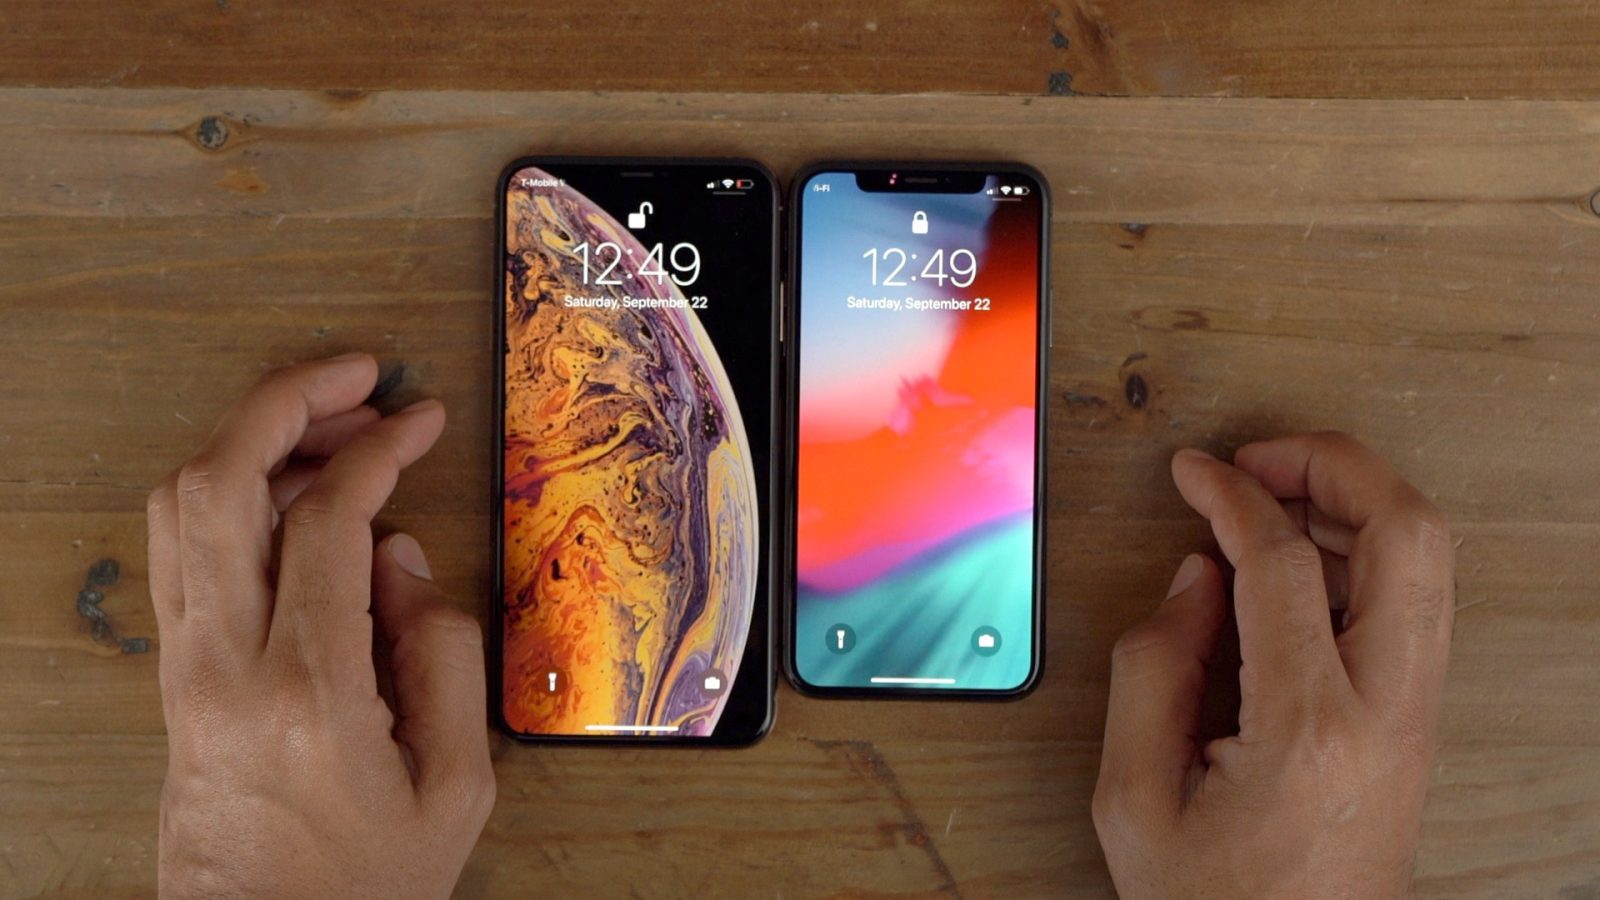Cell Phone: (497, 153, 775, 747), (797, 163, 1045, 699)
